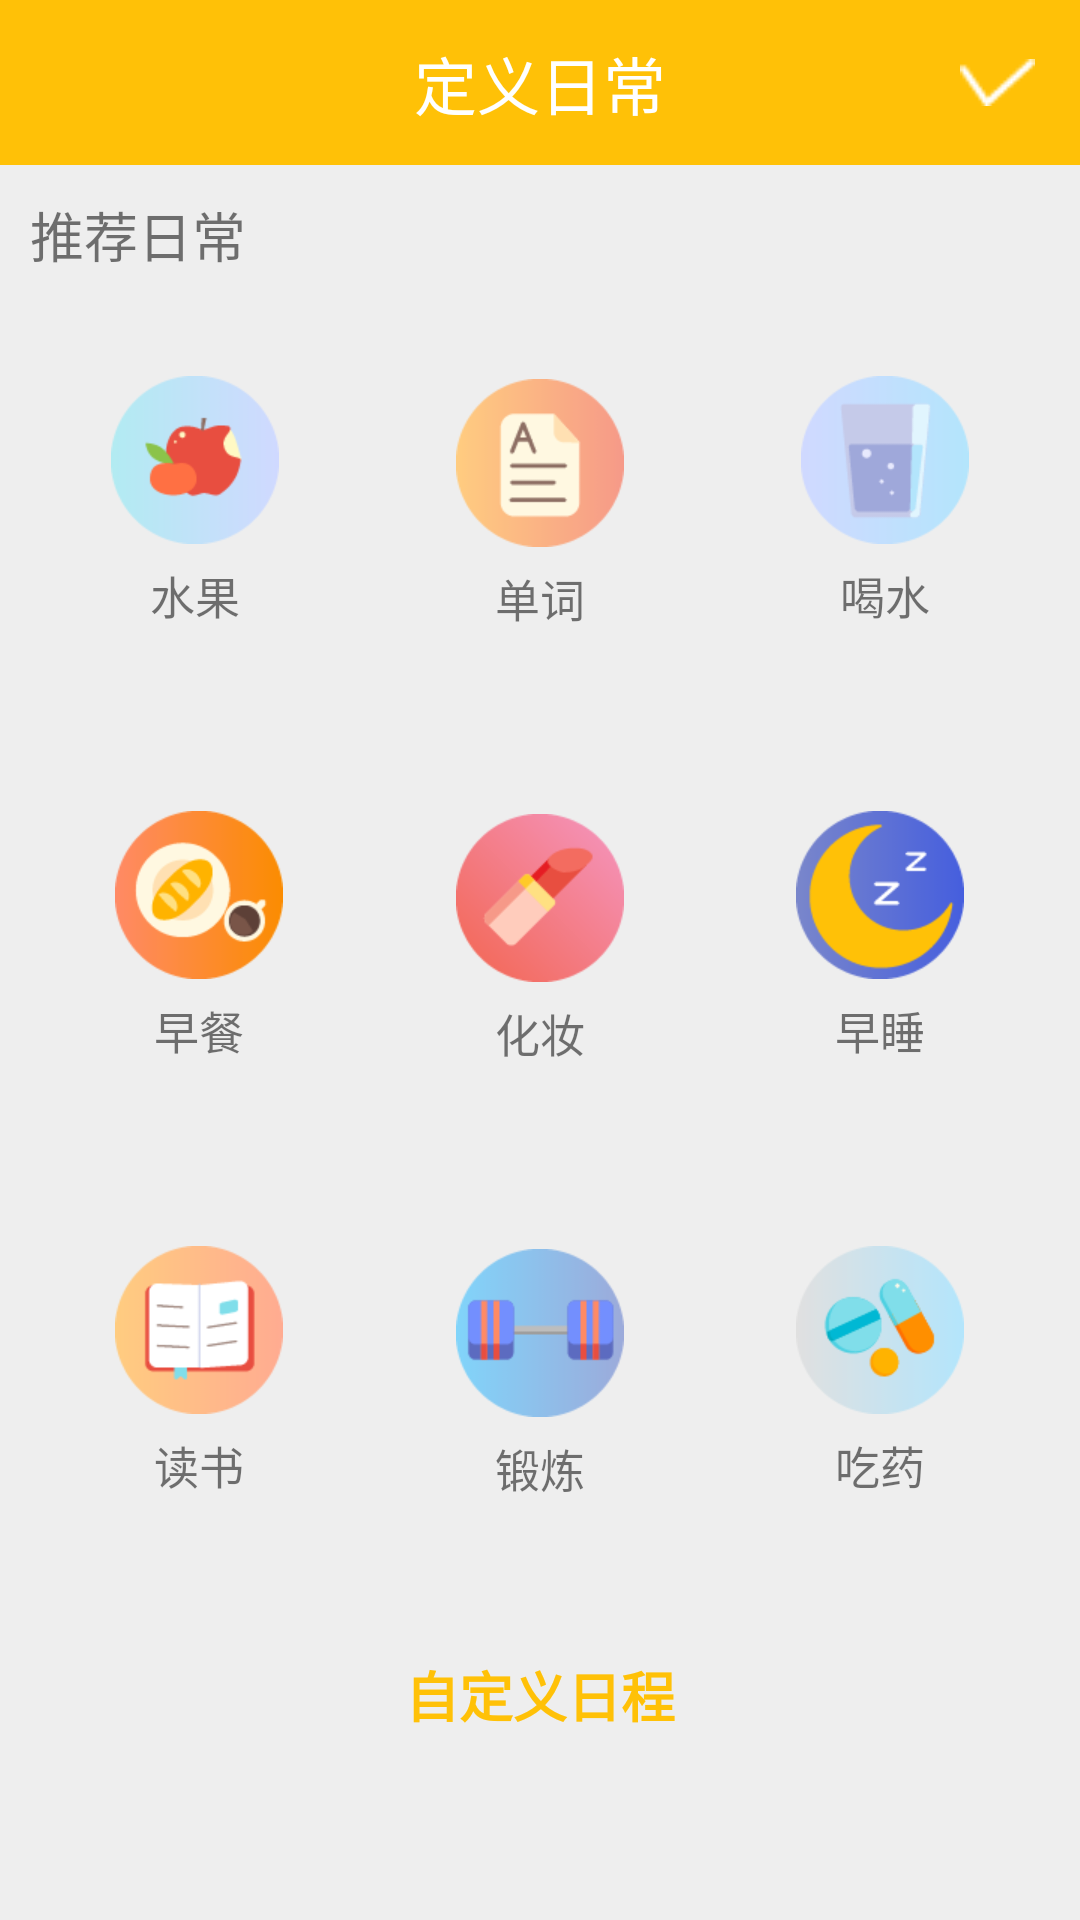

Where icons sit on this 1080 x 1920 app screen, as (x1, y1, x2, y2):
apples: (111, 376, 279, 544)
doctor: (824, 1246, 964, 1414)
night: (796, 811, 964, 979)
topgou: (960, 59, 1035, 106)
